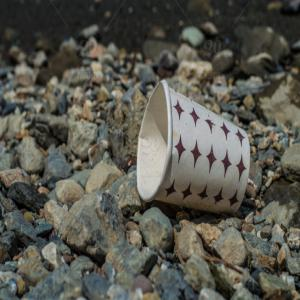Cup: (137, 80, 253, 217)
